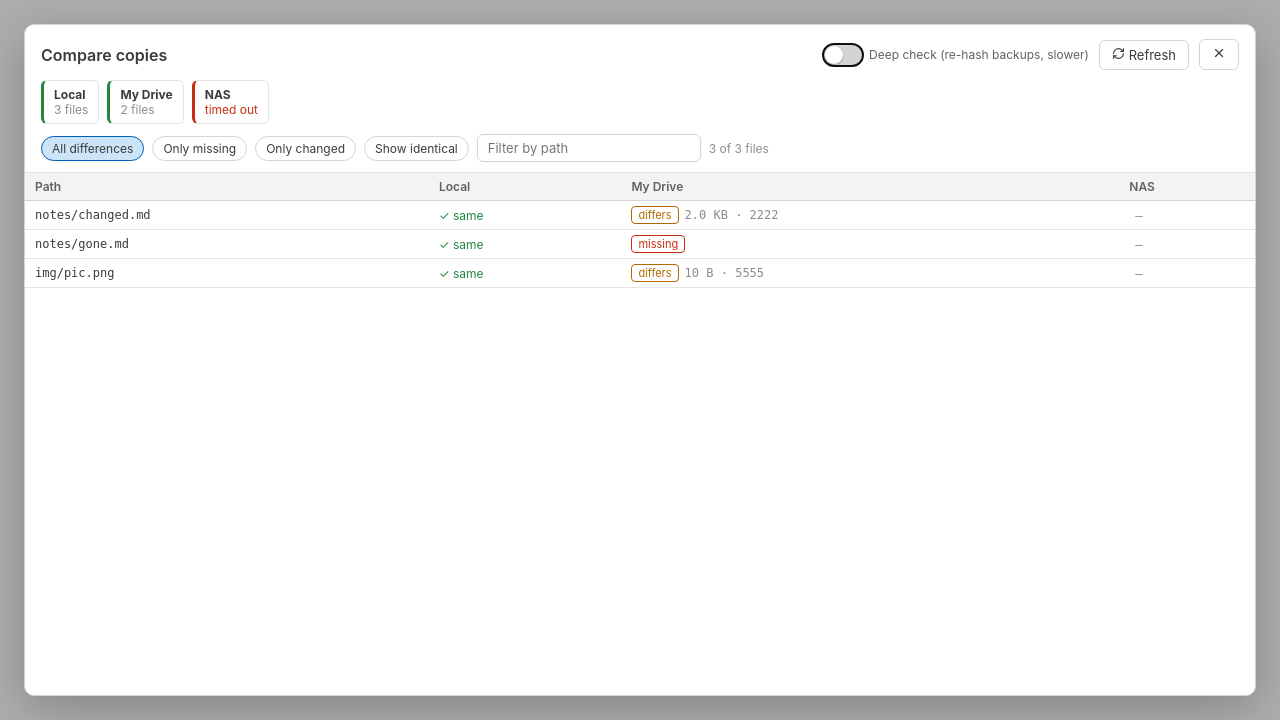
it: CompareModal › surfaces StaleWrite on overwrite
Step 1. Click the row with test id "compare-row-notes/changed.md" → (640, 215), box [25,200,1255,230]
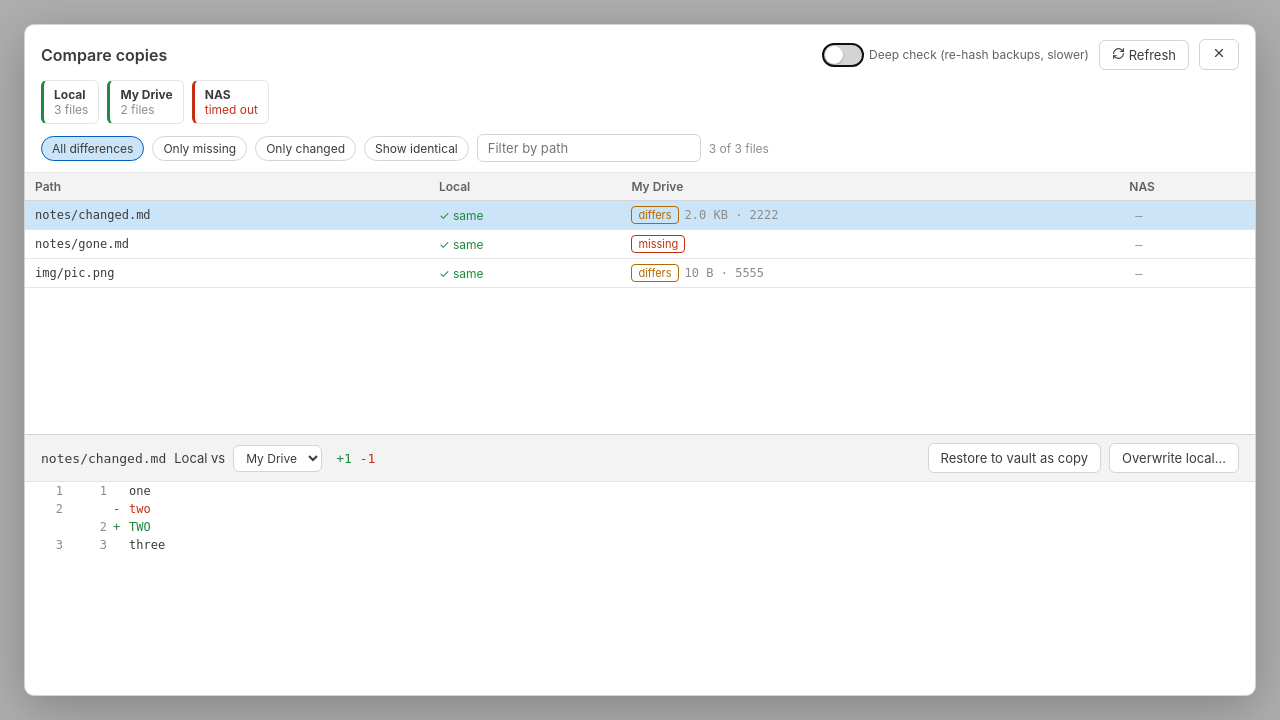
expect the element with test id "compare-diff" is shown: met, box [56,484,165,552]
Step 2. Click the button with test id "compare-restore-overwrite" → (1174, 458), box [1109,443,1239,473]
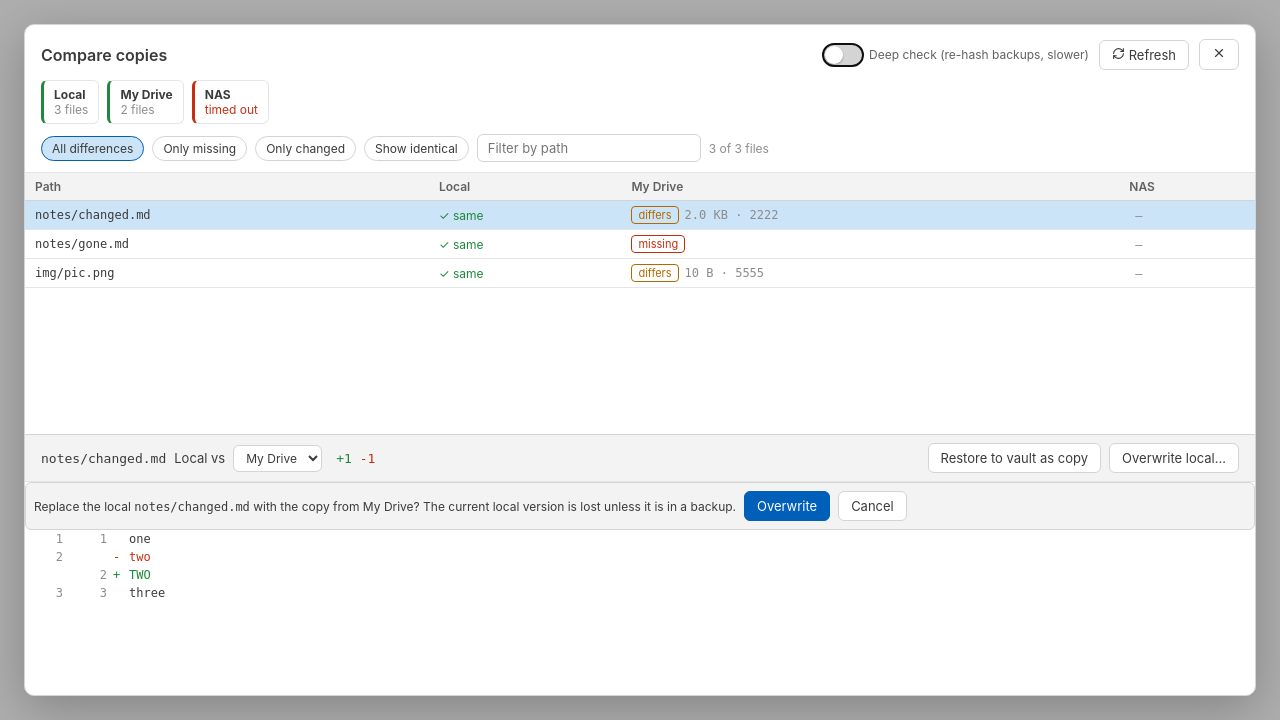
Step 3. Click the button with test id "compare-overwrite-confirm" → (787, 506), box [744,491,830,521]
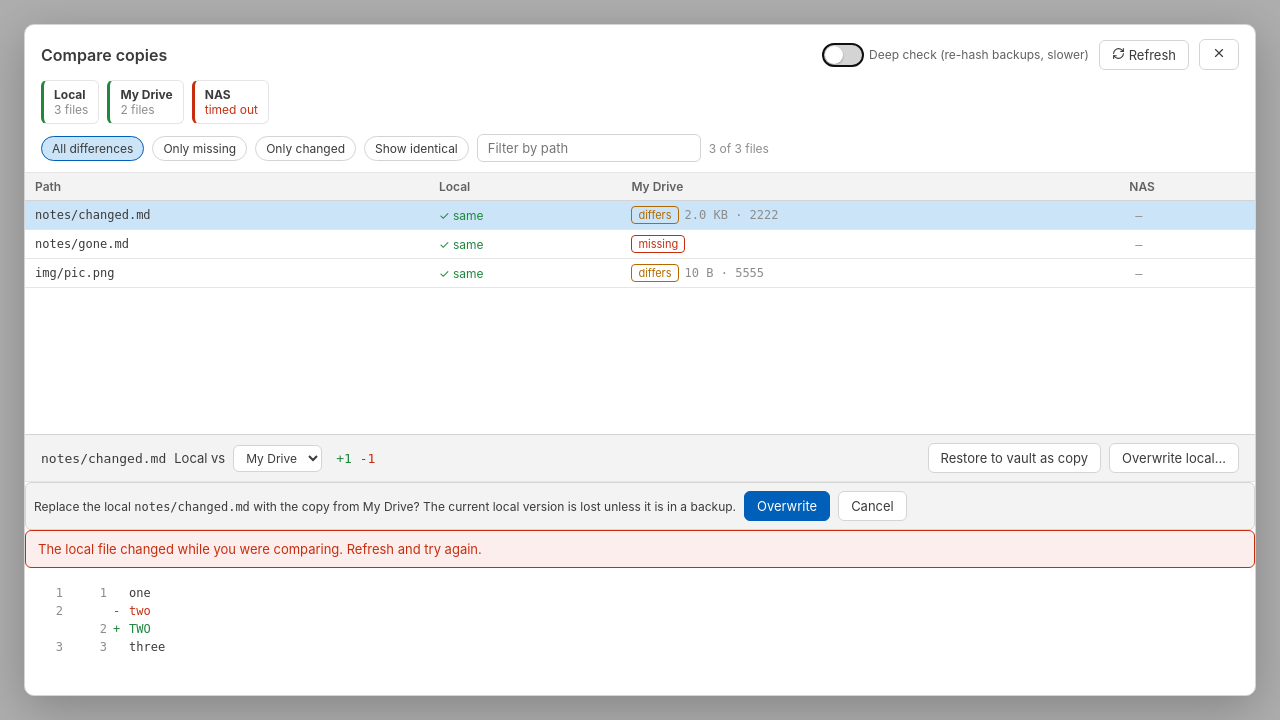
expect the message with test id "compare-error" shows "changed while you were comparing": met, box [38,541,482,557]
